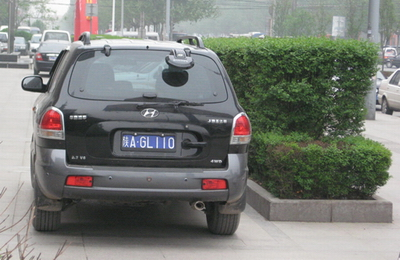plate_number: (120, 131, 175, 153)
